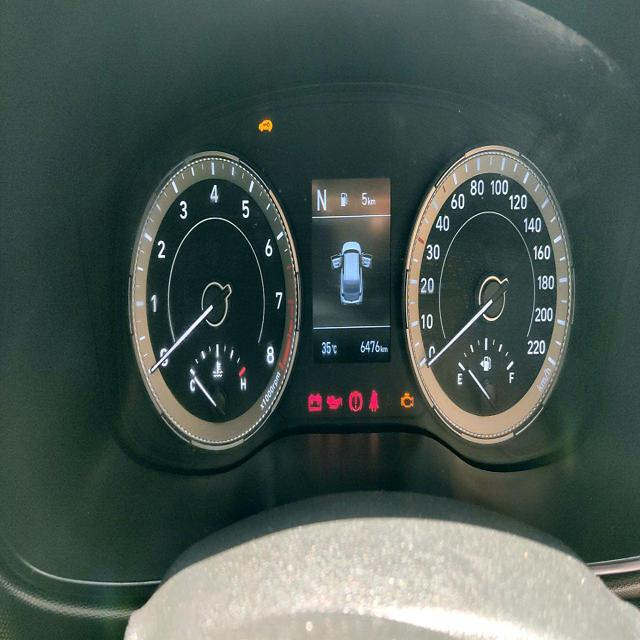odometer: (357, 335, 383, 359)
